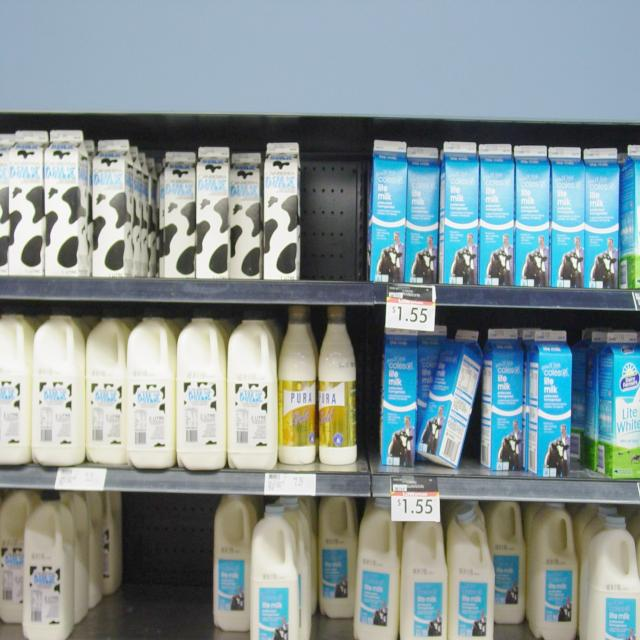empty_space: (117, 504, 207, 624), (305, 156, 360, 271)
